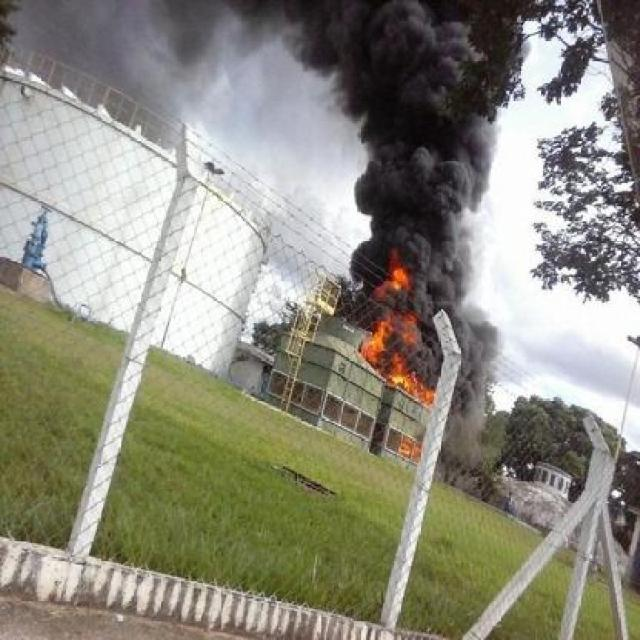Fire: (356, 248, 438, 406), (399, 434, 419, 460)
Smoke: (259, 2, 505, 242), (442, 245, 498, 428)
